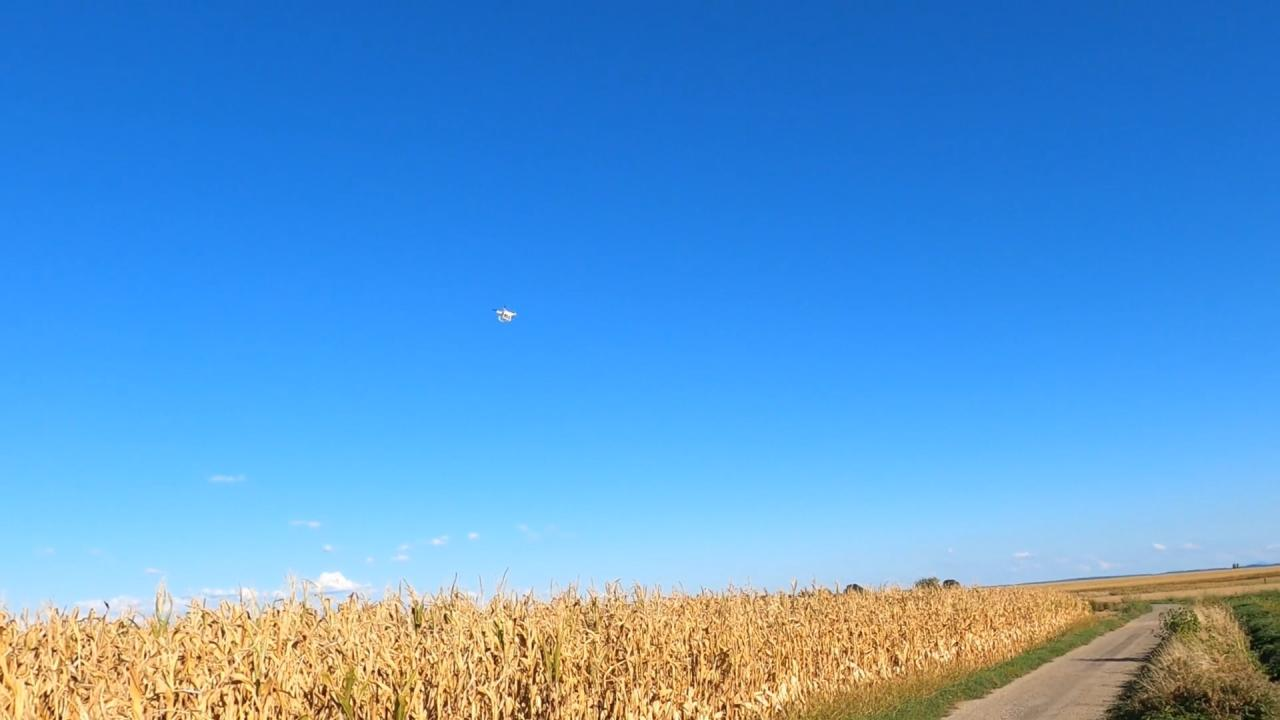Drone: (487, 304, 523, 328)
